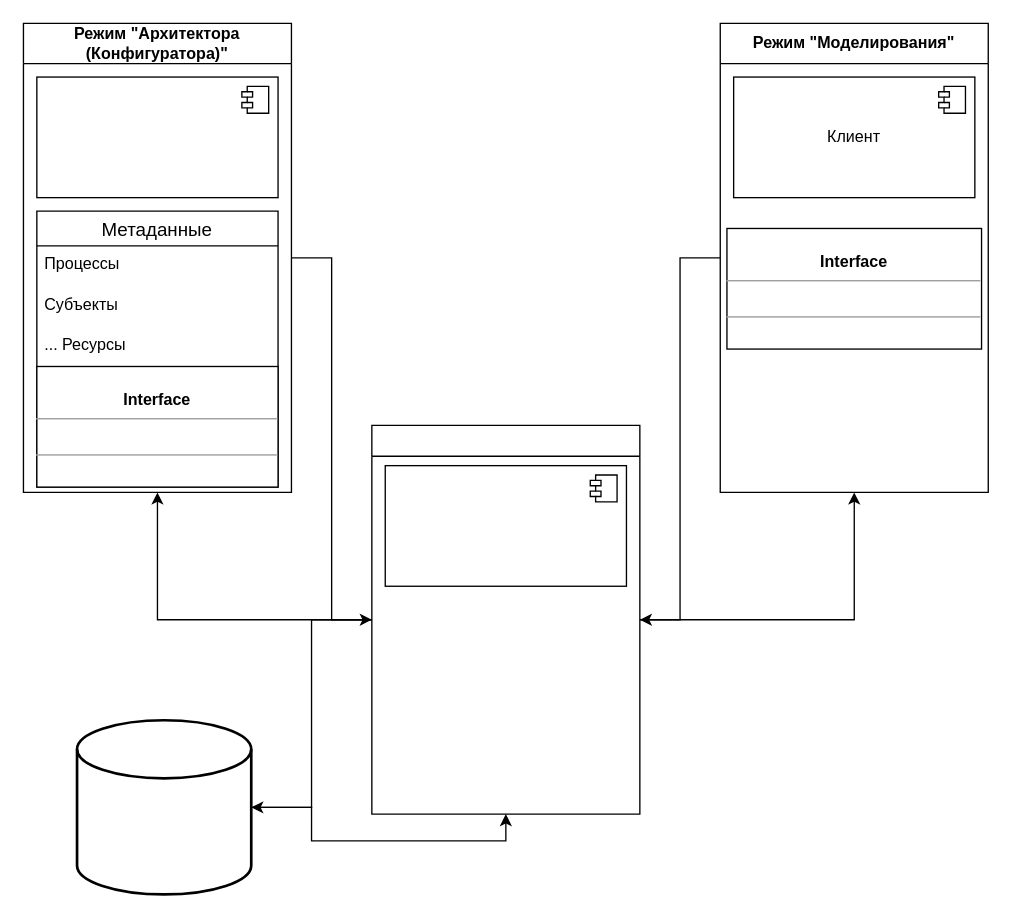
Some shapes in this 1012 by 919 pixel diagram are drawn without their labels. The shapes that lost their labels are listed below. From the top down, each one's centre as x and y in pixels, then its label:
At pixel 157 137: "Конфигуратор".
At pixel 505 525: "Сервер".
At pixel 163 806: "БД".
